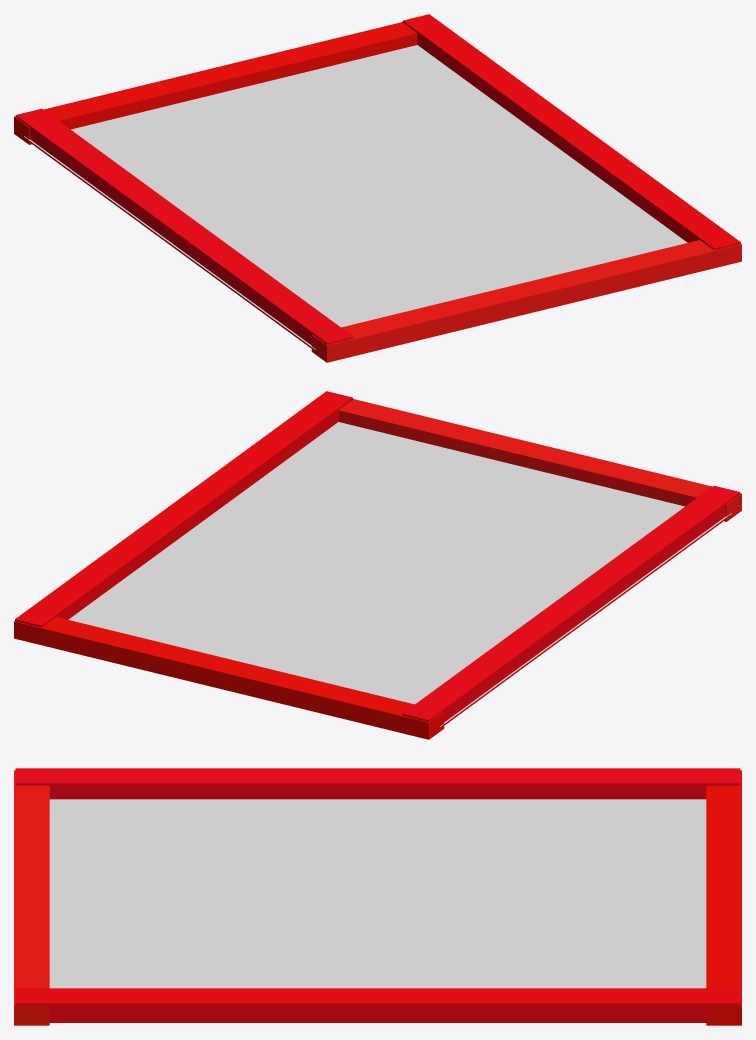
File: frame.2.fbx
The picture shows the model from 3 angles, top to bottom: view 1: azimuth 30°, elevation 25°; view 2: azimuth 150°, elevation 25°; view 3: azimuth 270°, elevation 25°; orthographic projection. The views are drawn at different scales.
Visible parts, largest first — view 1: 平面, 立方体.003, 立方体.001, 立方体, 立方体.002; view 2: 平面, 立方体.002, 立方体.001, 立方体, 立方体.003; view 3: 平面, 立方体, 立方体.001, 立方体.002, 立方体.003.
Part boxes in pixels (x1=…): 平面: x1=24, y1=45, x2=687, y2=349; 立方体.003: x1=311, y1=240, x2=741, y2=362; 立方体.001: x1=15, y1=108, x2=353, y2=348; 立方体: x1=402, y1=14, x2=740, y2=250; 立方体.002: x1=14, y1=22, x2=417, y2=144; 平面: x1=68, y1=422, x2=731, y2=726; 立方体.002: x1=14, y1=617, x2=444, y2=739; 立方体.001: x1=402, y1=485, x2=740, y2=725; 立方体: x1=15, y1=391, x2=352, y2=627; 立方体.003: x1=338, y1=399, x2=741, y2=521; 平面: x1=49, y1=799, x2=706, y2=988; 立方体: x1=15, y1=988, x2=740, y2=1022; 立方体.001: x1=15, y1=768, x2=740, y2=799; 立方体.002: x1=706, y1=770, x2=741, y2=1025; 立方体.003: x1=14, y1=770, x2=49, y2=1025.
Size of the model in its own units: 231 by 10.1 by 301.
